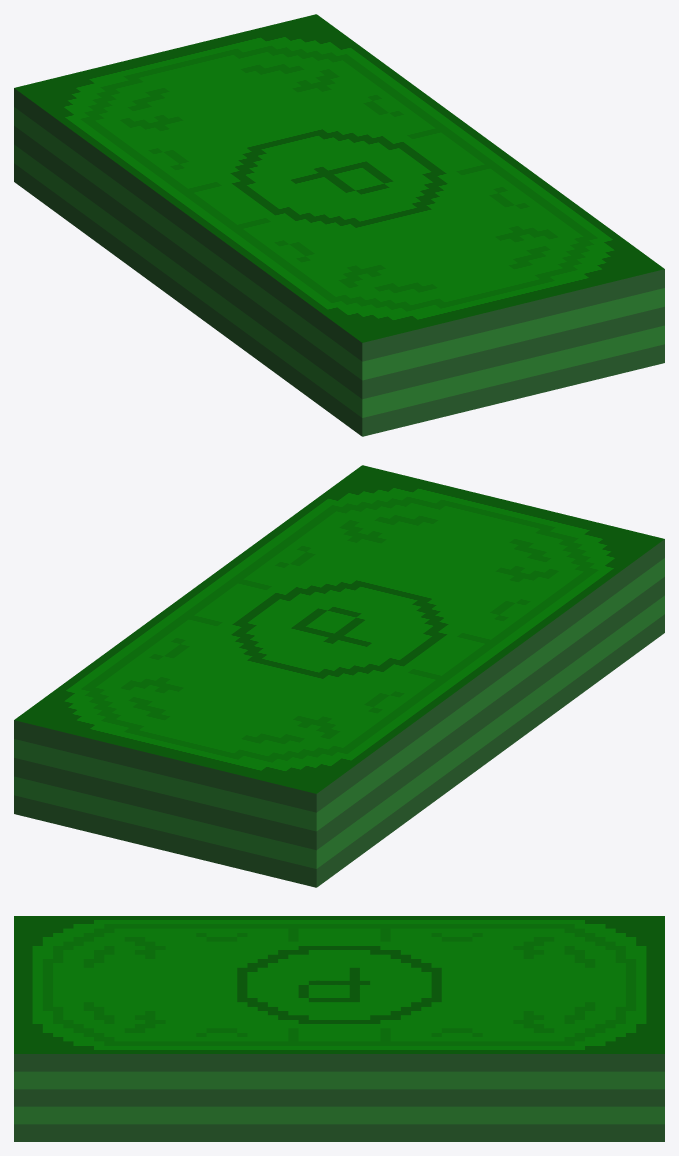
The model's file is DINERObillete.glb.
3 renders of one model, top to bottom at view 1: azimuth 30°, elevation 25°; view 2: azimuth 150°, elevation 25°; view 3: azimuth 270°, elevation 25°, orthographic. The views are drawn at different scales.
Parts seen in each view (by area): view 1: Cube; view 2: Cube; view 3: Cube.
Part boxes in pixels (x1=…): Cube: x1=14, y1=14, x2=664, y2=436; Cube: x1=14, y1=465, x2=664, y2=887; Cube: x1=14, y1=916, x2=664, y2=1141.
Bounding box in the file's own units: 0.7031 × 0.2085 × 1.4.
4 materials, 2 textured.
